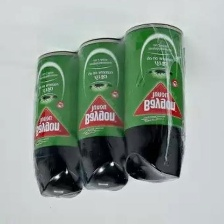aerosol_cans: (120, 21, 188, 186), (73, 34, 131, 194), (29, 48, 85, 202)
